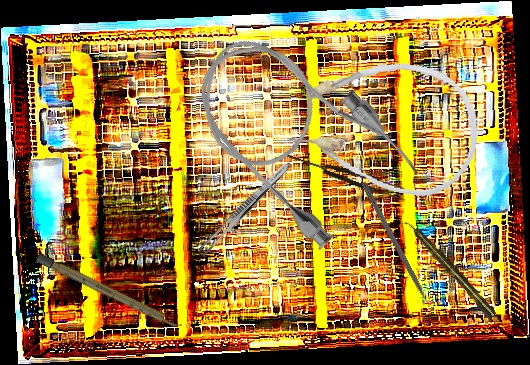Cannula: (169, 4, 429, 262), (282, 45, 488, 205)
Chopper: (354, 181, 436, 320)
Dressing Forceps: (196, 158, 294, 259)
Handpiece: (402, 216, 498, 321)
Scalpel Handle: (35, 252, 184, 332)
Tissue Forceps: (284, 146, 406, 203)
